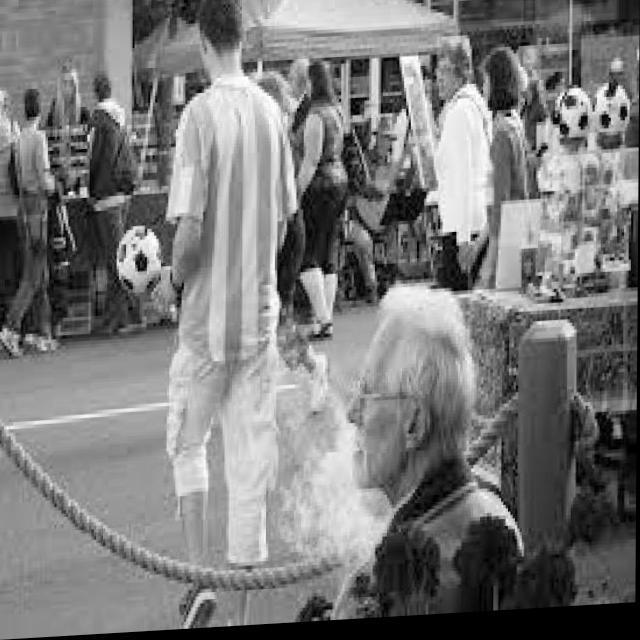Smoke: (257, 336, 380, 583)
